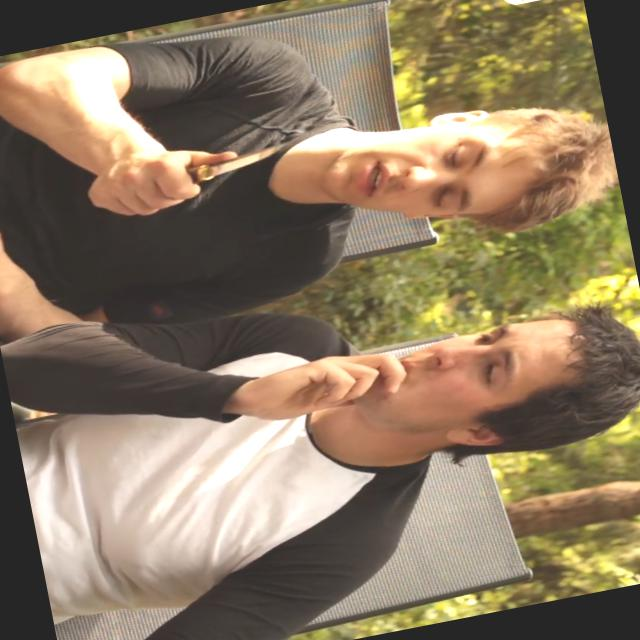knife: (113, 119, 324, 221)
